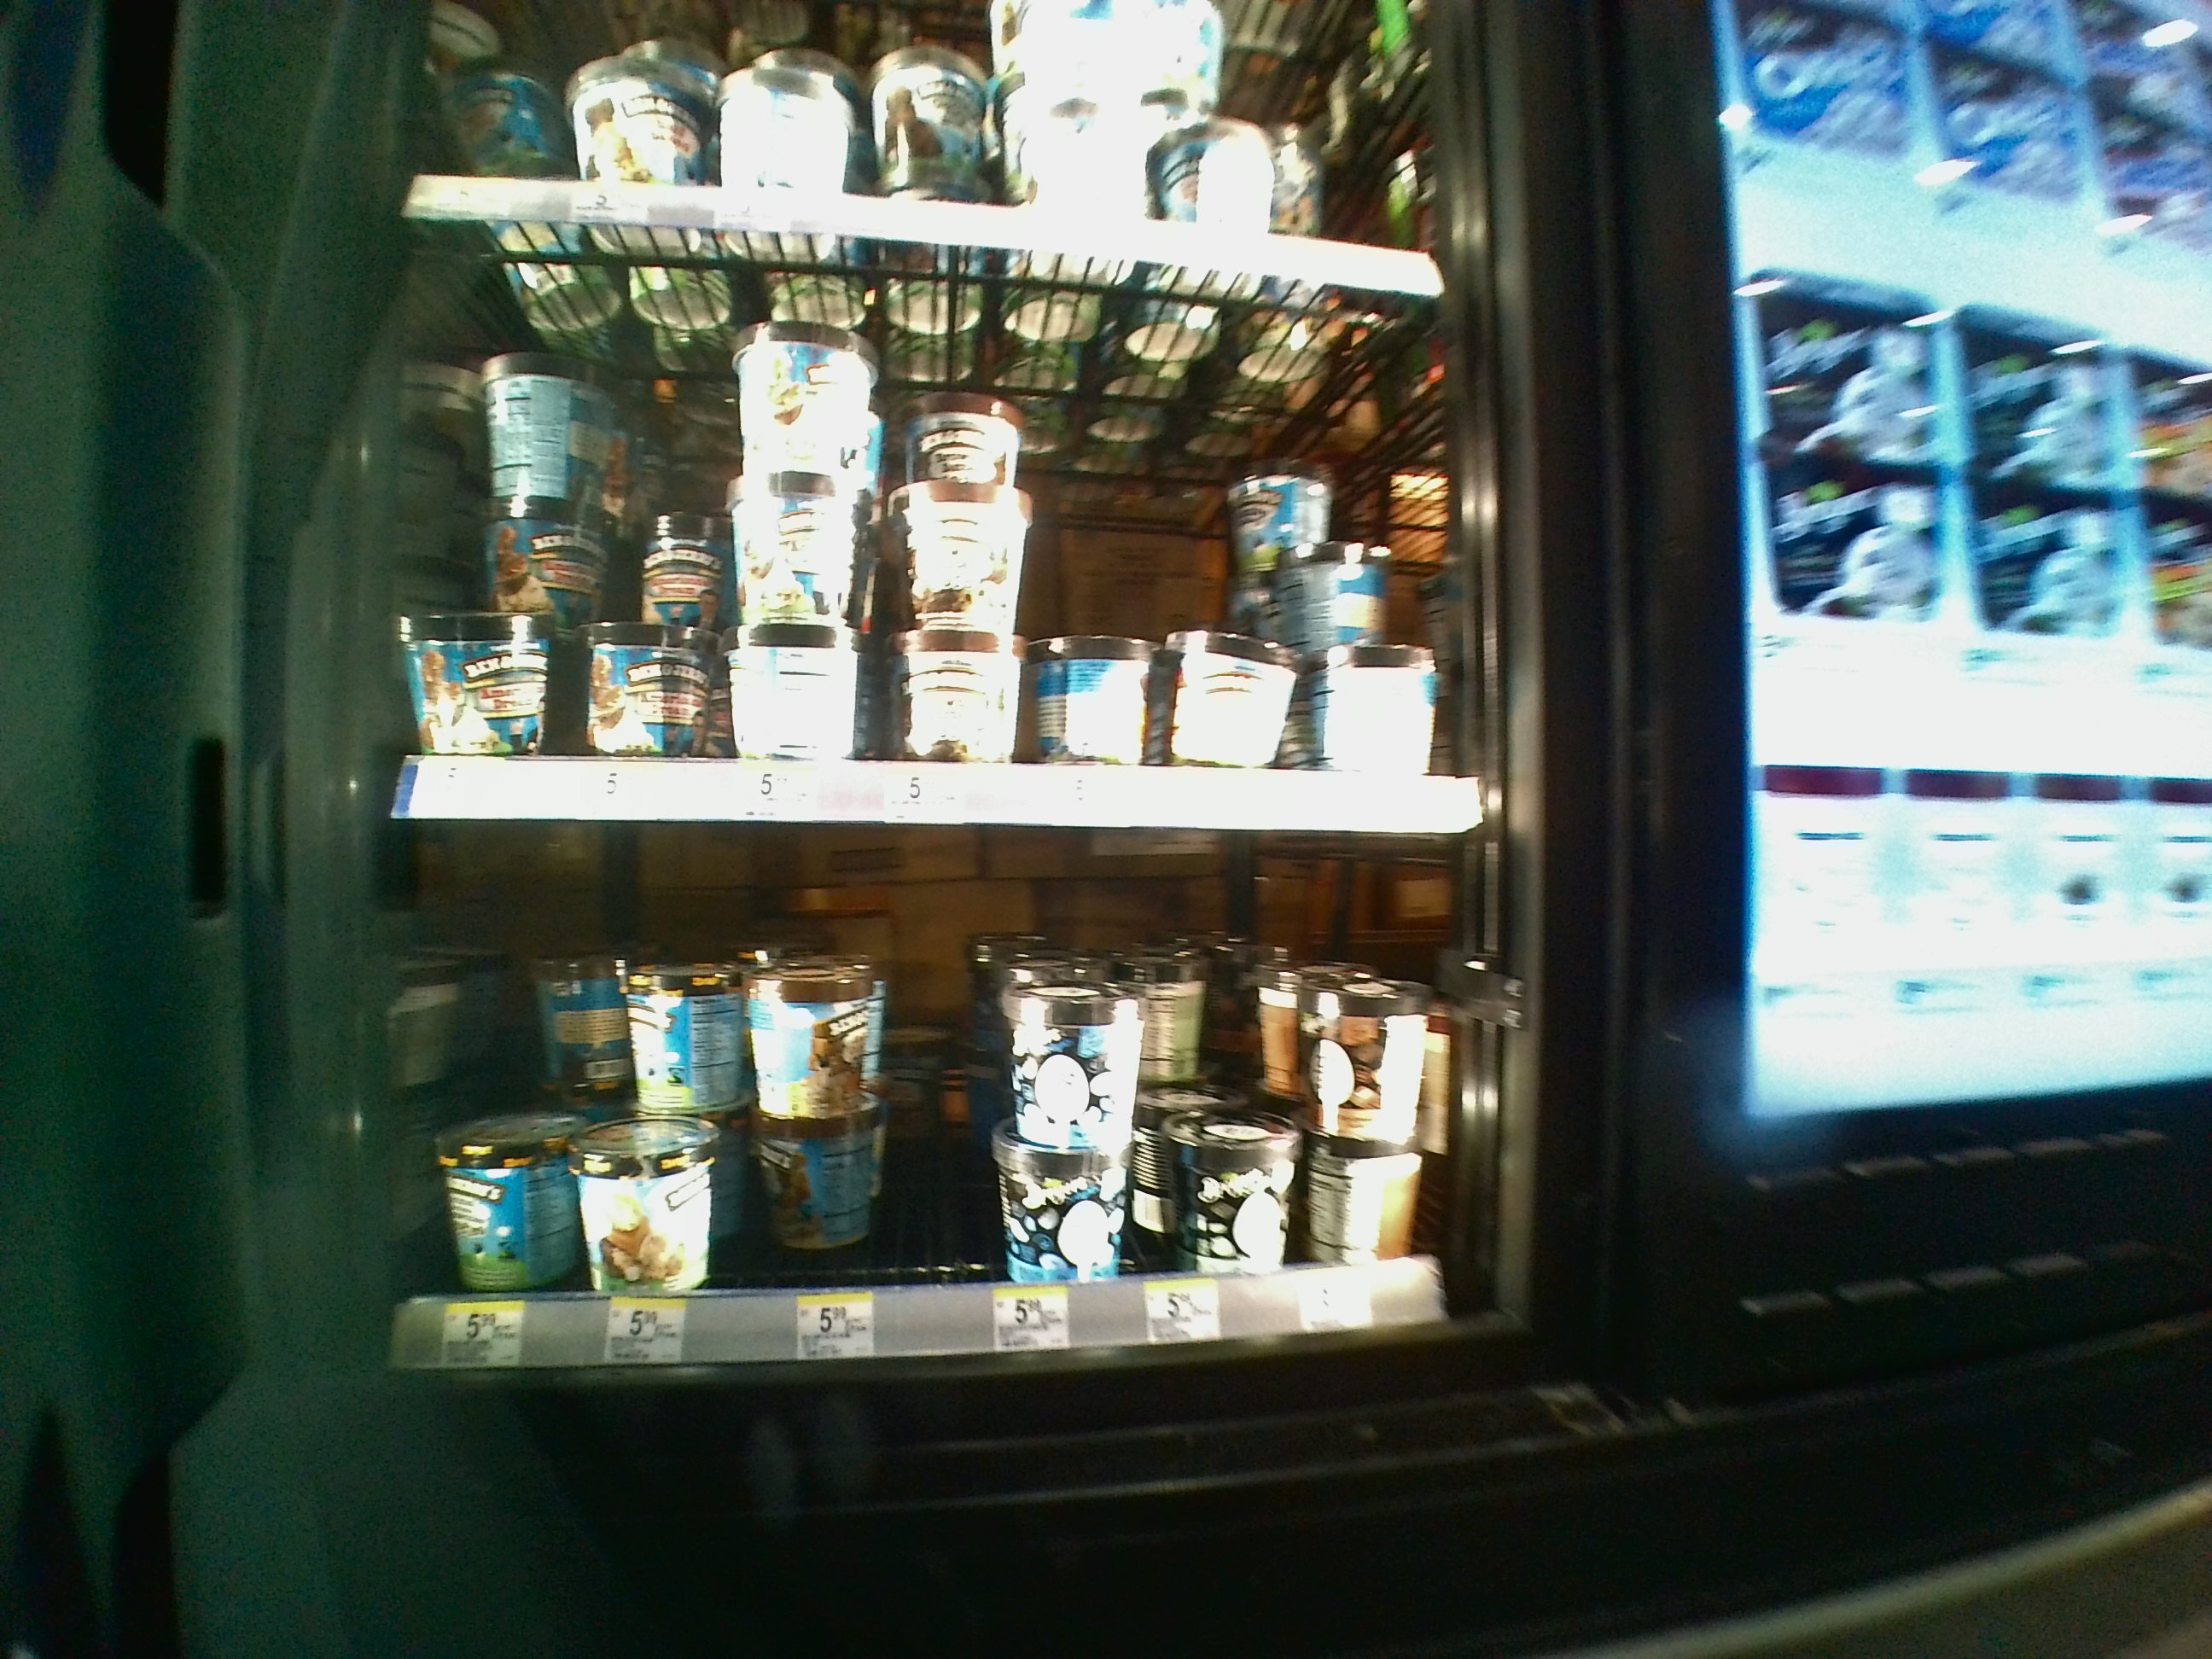shelf: (404, 221, 1474, 817), (394, 833, 1484, 1373)
